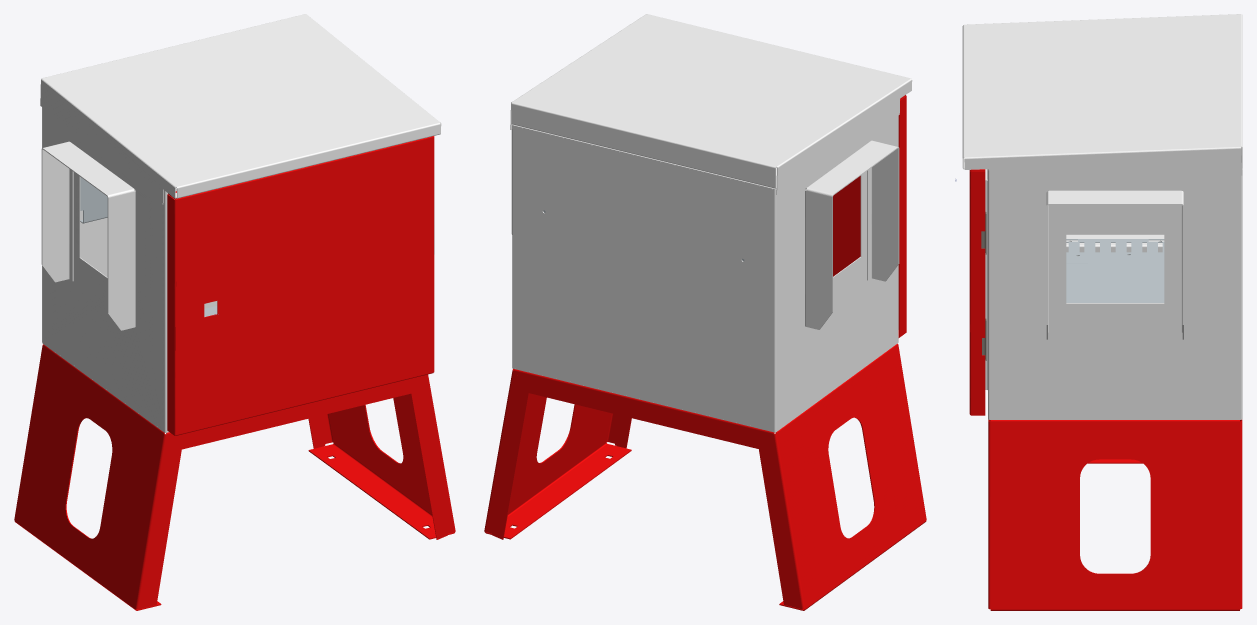
File: rack.glb
The picture shows the model from 3 angles, left to right: view 1: azimuth 30°, elevation 25°; view 2: azimuth 150°, elevation 25°; view 3: azimuth 270°, elevation 25°; orthographic projection. The views are drawn at different scales.
Parts seen in each view (by area): view 1: body383219.001, body330965.001, body335769.001, body320975.001, body384775.001, body377328.001; view 2: body320975.001, body330965.001, body335769.001, body384775.001, body383219.001; view 3: body320975.001, body330965.001, body335769.001, body384775.003, body383219.001, body360233.001, body367078.001, body368474.003, body339572.001.
Part boxes in pixels (box(x1,y1,x2,y2)): body383219.001: box(167, 136, 434, 435); body330965.001: box(40, 14, 441, 204); body335769.001: box(14, 344, 455, 610); body320975.001: box(42, 107, 168, 431); body384775.001: box(41, 141, 135, 330); body377328.001: box(80, 177, 107, 223); body320975.001: box(512, 115, 898, 431); body330965.001: box(510, 14, 912, 194); body335769.001: box(484, 343, 926, 610); body384775.001: box(805, 140, 899, 329); body383219.001: box(833, 95, 906, 337); body320975.001: box(985, 170, 1242, 418); body330965.001: box(962, 14, 1242, 185); body335769.001: box(988, 419, 1242, 610); body384775.003: box(1046, 190, 1183, 339); body383219.001: box(969, 169, 985, 415); body360233.001: box(1066, 239, 1164, 302); body367078.001: box(1119, 260, 1164, 302); body368474.003: box(1066, 234, 1164, 252); body339572.001: box(1066, 263, 1087, 302).
Size of the model in its own units: 486 by 636 by 367.
